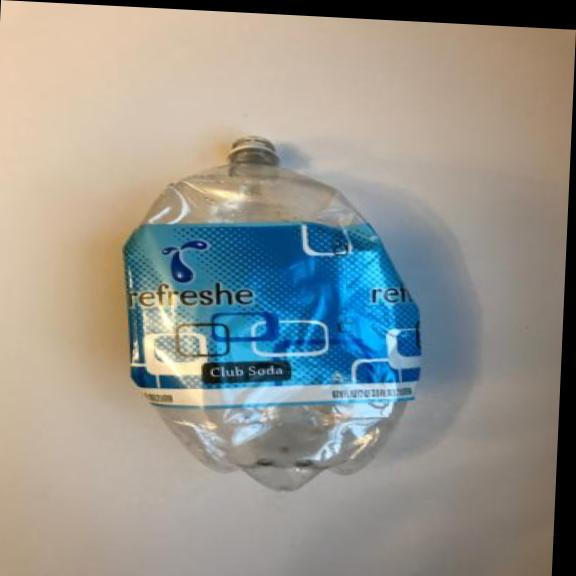Plastik: (102, 120, 437, 505)
